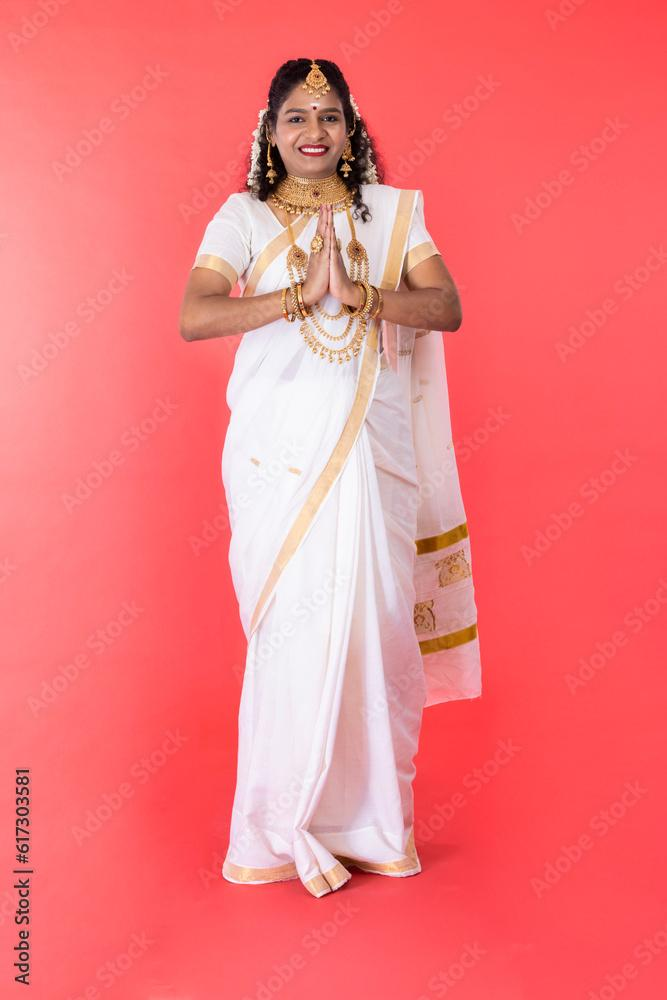Human: (168, 51, 473, 936)
